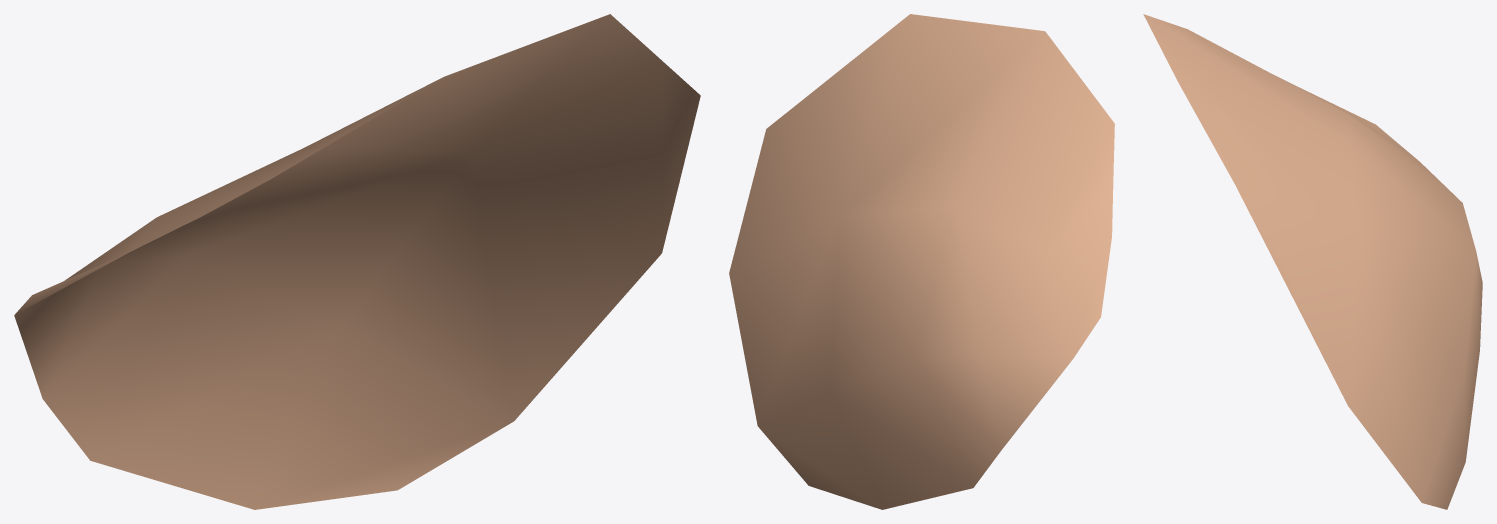
File: angle-of-mouth-l.glb
3 renders of one model, left to right at view 1: azimuth 30°, elevation 25°; view 2: azimuth 150°, elevation 25°; view 3: azimuth 270°, elevation 25°, orthographic. The views are drawn at different scales.
Visible parts, largest first — view 1: Angle of mouth.l; view 2: Angle of mouth.l; view 3: Angle of mouth.l.
Boxes of the visible parts, bbox=[...] form: Angle of mouth.l: bbox=[14, 14, 700, 509]; Angle of mouth.l: bbox=[729, 14, 1114, 509]; Angle of mouth.l: bbox=[1143, 14, 1482, 509].
Size of the model in its own units: 0.0074 by 0.00705 by 0.00495.
